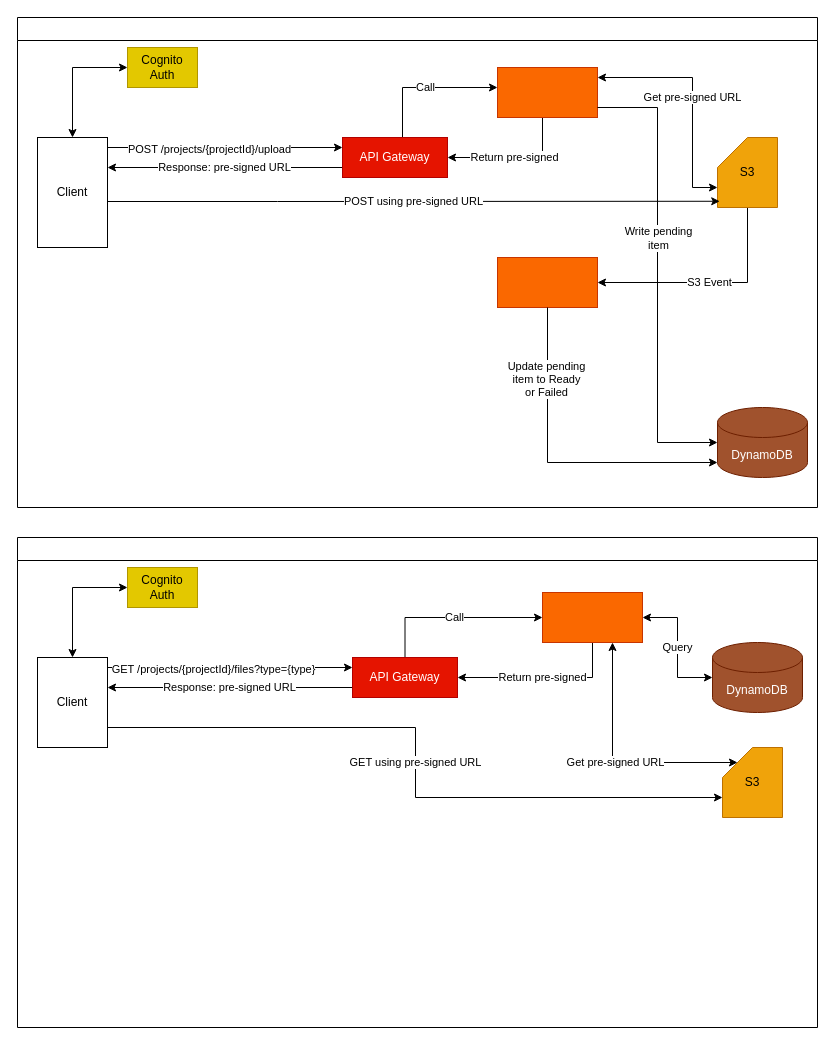
Some shapes in this 835 by 1045 pixel diagram are drawn without their labels. The box of each missing label's shape, as (x1, y1, x2, y2) in pixels:
Download Flow: (16, 536, 818, 1028)
Lambda: Downloader: (542, 592, 642, 642)
Lambda: Uploader: (496, 66, 598, 118)
Lambda: Verifier: (496, 256, 598, 308)
Upload Flow: (16, 16, 818, 508)
